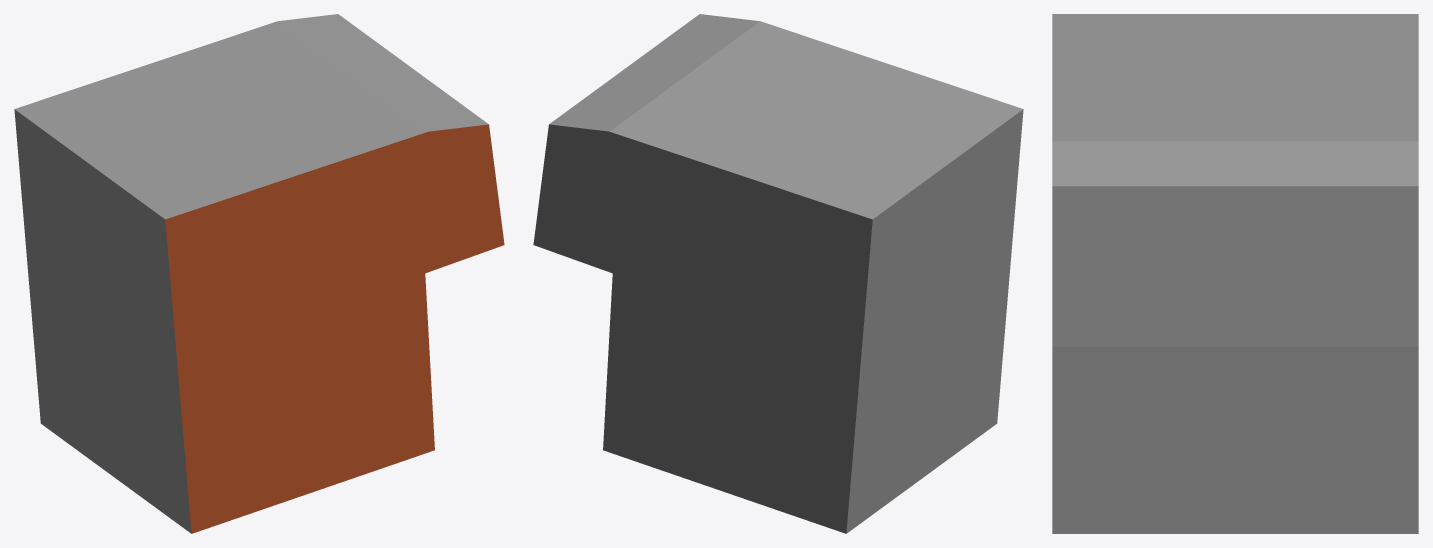
Rendered from construction_0742_assumed_A_Capela_h6m.obj.
The picture shows the model from 3 angles, left to right: view 1: azimuth 30°, elevation 25°; view 2: azimuth 150°, elevation 25°; view 3: azimuth 270°, elevation 25°; orthographic projection. The views are drawn at different scales.
Visible parts, largest first — view 1: construction_0742_assumed_A_Capela; view 2: construction_0742_assumed_A_Capela; view 3: construction_0742_assumed_A_Capela.
Boxes of the visible parts, x1,y1,x2,y2 form: construction_0742_assumed_A_Capela: (14,14,504,533); construction_0742_assumed_A_Capela: (533,14,1023,533); construction_0742_assumed_A_Capela: (1052,14,1418,533).
Size of the model in its own units: 7.79 by 7.56 by 6.
